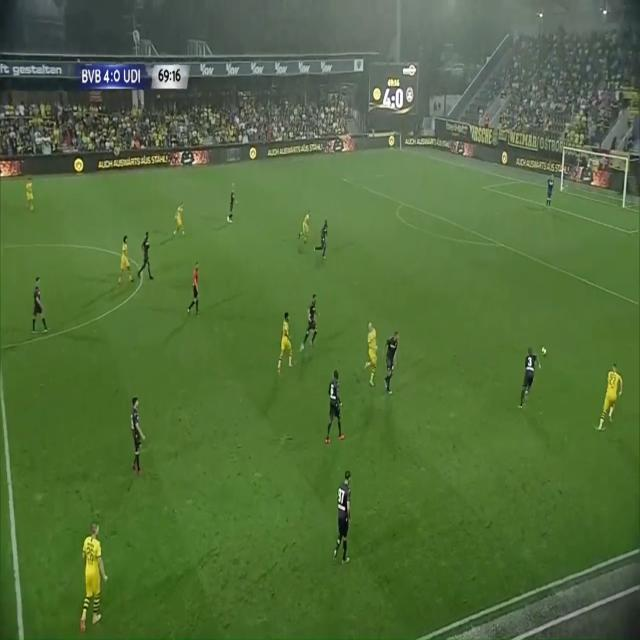ball: (541, 344, 550, 361)
goalkeeper: (545, 167, 559, 212)
player: (79, 500, 111, 635), (328, 465, 358, 562), (126, 389, 152, 491), (325, 360, 351, 453), (595, 356, 623, 440), (380, 330, 410, 406), (518, 348, 546, 412), (274, 301, 297, 378), (359, 316, 380, 400), (135, 228, 161, 293), (297, 284, 320, 357), (226, 174, 248, 242), (31, 272, 51, 345), (293, 204, 315, 261), (116, 230, 136, 286), (314, 215, 332, 267), (172, 200, 188, 241), (24, 173, 37, 223)
referee: (187, 252, 206, 330)
